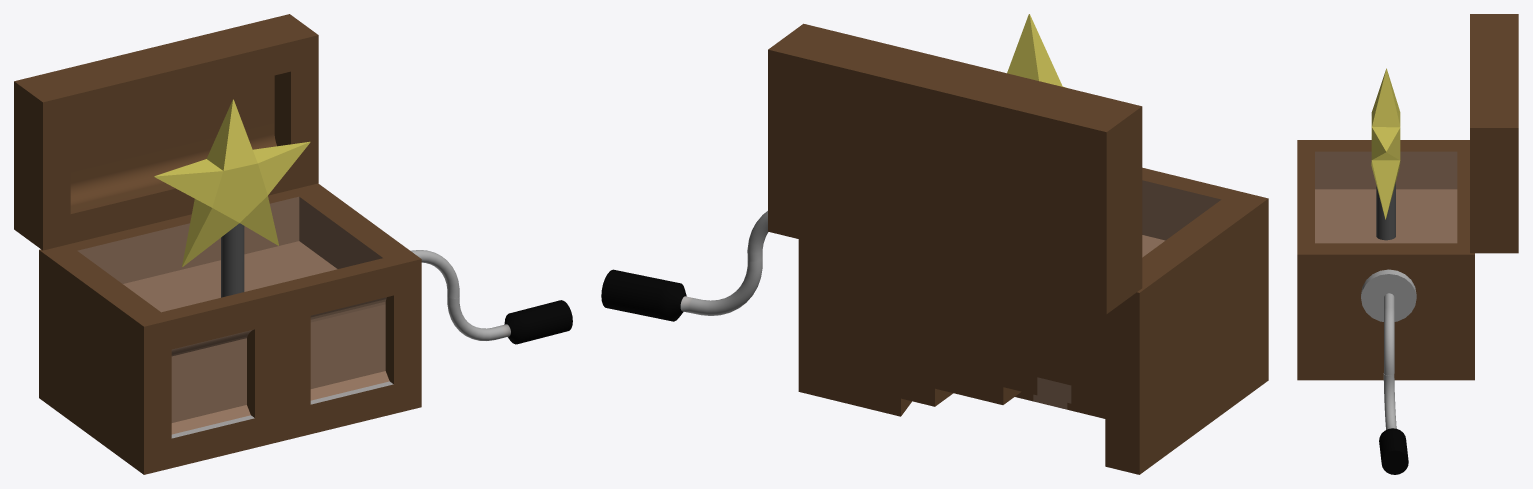
Rendered from musicbox.fbx.
3 views of the same model, side by side, from view 1: azimuth 30°, elevation 25°; view 2: azimuth 150°, elevation 25°; view 3: azimuth 270°, elevation 25° (orthographic). The views are drawn at different scales.
Parts seen in each view (by area): view 1: pCube1, pCube2, pCylinder1, pCylinder4, pCylinder5, pCylinder3; view 2: pCube2, pCube1, pCylinder4, pCylinder1, pCylinder3; view 3: pCube1, pCube2, pCylinder1, pCylinder2, pCylinder4, pCylinder3, pCylinder5.
Boxes of the visible parts, x1=… form: pCube1: x1=39, y1=183, x2=421, y2=474; pCube2: x1=14, y1=14, x2=318, y2=250; pCylinder1: x1=154, y1=99, x2=310, y2=266; pCylinder4: x1=447, y1=297, x2=572, y2=344; pCylinder5: x1=221, y1=223, x2=244, y2=297; pCylinder3: x1=410, y1=250, x2=459, y2=298; pCube2: x1=768, y1=23, x2=1142, y2=314; pCube1: x1=798, y1=167, x2=1268, y2=474; pCylinder4: x1=601, y1=259, x2=762, y2=321; pCylinder1: x1=1007, y1=14, x2=1066, y2=87; pCylinder3: x1=747, y1=211, x2=768, y2=261; pCube1: x1=1297, y1=140, x2=1474, y2=380; pCube2: x1=1470, y1=14, x2=1518, y2=253; pCylinder1: x1=1371, y1=68, x2=1400, y2=219; pCylinder2: x1=1361, y1=269, x2=1416, y2=321; pCylinder4: x1=1379, y1=373, x2=1408, y2=474; pCylinder3: x1=1384, y1=293, x2=1394, y2=375; pCylinder5: x1=1376, y1=182, x2=1395, y2=240.
Size of the model in its own units: 3.38 by 2.14 by 1.6.
